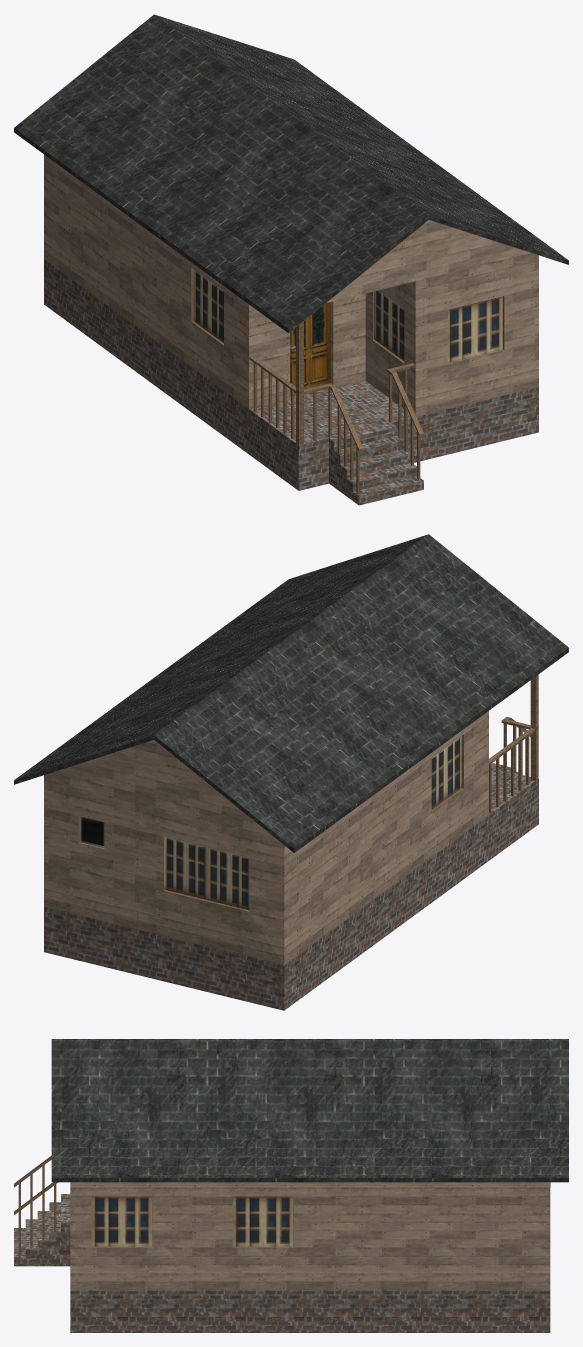
File: house3_tex3.glb
3 renders of one model, top to bottom at view 1: azimuth 30°, elevation 25°; view 2: azimuth 150°, elevation 25°; view 3: azimuth 270°, elevation 25°, orthographic. The views are drawn at different scales.
Parts seen in each view (by area): view 1: house3, house3_windows_window_bathroom.001, house3_door1; view 2: house3, house3_windows_window_bathroom.001; view 3: house3, house3_windows_window_bathroom.001.
Boxes of the visible parts, bbox=[...] form: house3: bbox=[14, 14, 568, 505]; house3_windows_window_bathroom.001: bbox=[191, 267, 504, 363]; house3_door1: bbox=[290, 302, 330, 396]; house3: bbox=[14, 534, 568, 1010]; house3_windows_window_bathroom.001: bbox=[78, 734, 463, 911]; house3: bbox=[14, 1039, 568, 1332]; house3_windows_window_bathroom.001: bbox=[91, 1196, 293, 1247].
Bounding box in the file's own units: 6.48 × 5.6 × 11.8.
1 material, 1 textured.
